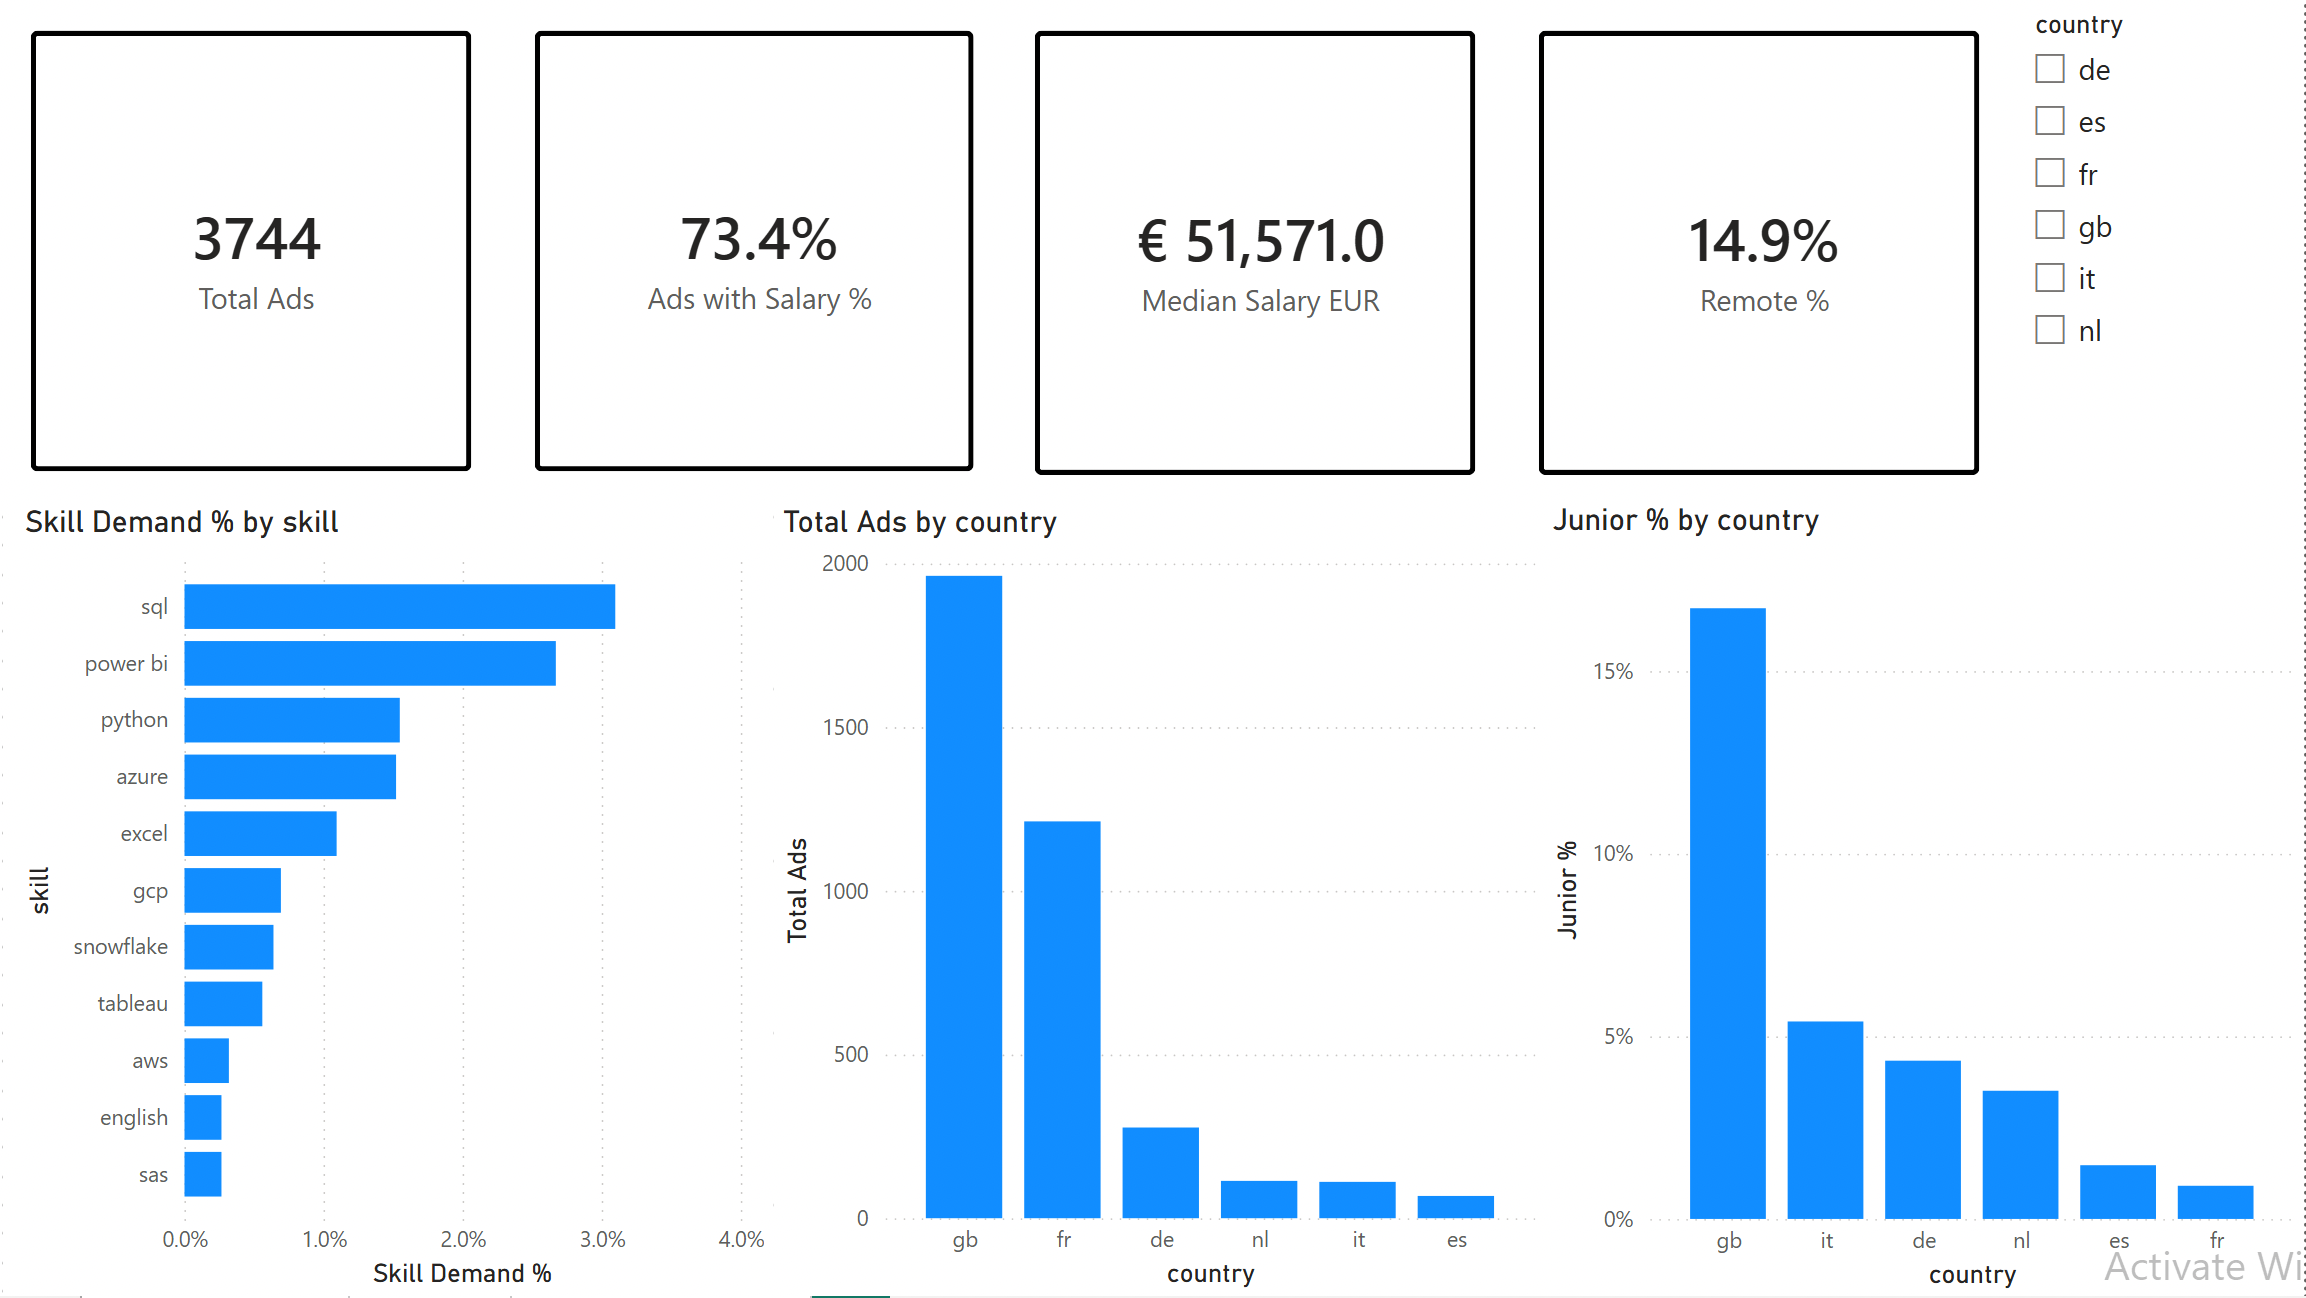

The page's visual inventory and layout, read from the dashboard file:
{"tool":"powerbi","page":{"name":"Market Overview","canvas":[1280,720],"ordinal":0},"visuals":[{"type":"cardVisual","fields":{"Data":["pbi_jobs.Total Ads"]},"box":[0,0,279.9,279],"z":0},{"type":"cardVisual","fields":{"Data":["pbi_jobs.Median Salary EUR"]},"box":[558.3,0,279.9,281.4],"z":1},{"type":"cardVisual","fields":{"Data":["pbi_jobs.Ads with Salary %"]},"box":[279.9,0,278.4,279.9],"z":3},{"type":"cardVisual","fields":{"Data":["pbi_jobs.Remote %"]},"box":[838.2,0,279.9,281.4],"z":4},{"type":"clusteredBarChart","fields":{"Category":["pbi_skills_long.skill"],"Y":["pbi_skills_long.Skill Demand %"]},"box":[9.1,279.9,420.6,440.3],"z":5},{"type":"clusteredColumnChart","fields":{"Y":["pbi_jobs.Total Ads"],"Category":["pbi_jobs.country"]},"box":[429.7,279.9,428.2,440.3],"z":6},{"type":"clusteredColumnChart","fields":{"Y":["pbi_jobs.Junior %"],"Category":["pbi_jobs.country"]},"box":[857.9,278.4,422.1,441.8],"z":7},{"type":"slicer","fields":{"Values":["pbi_jobs.country"]},"box":[1118.1,0,161.9,279.9],"z":8}]}

Visuals, with their boxes on the page's 1280x720 design canvas (x1, y1, x2, y2). These are canvas units, not pixel positions in the 2306x1298 screenshot, which may show the page scaled, cropped or inside an application window:
cardVisual - pbi_jobs.Total Ads: BBox(0, 0, 280, 279)
cardVisual - pbi_jobs.Median Salary EUR: BBox(558, 0, 838, 281)
cardVisual - pbi_jobs.Ads with Salary %: BBox(280, 0, 558, 280)
cardVisual - pbi_jobs.Remote %: BBox(838, 0, 1118, 281)
clusteredBarChart - pbi_skills_long.skill x pbi_skills_long.Skill Demand %: BBox(9, 280, 430, 720)
clusteredColumnChart - pbi_jobs.Total Ads x pbi_jobs.country: BBox(430, 280, 858, 720)
clusteredColumnChart - pbi_jobs.Junior % x pbi_jobs.country: BBox(858, 278, 1280, 720)
slicer - pbi_jobs.country: BBox(1118, 0, 1280, 280)
